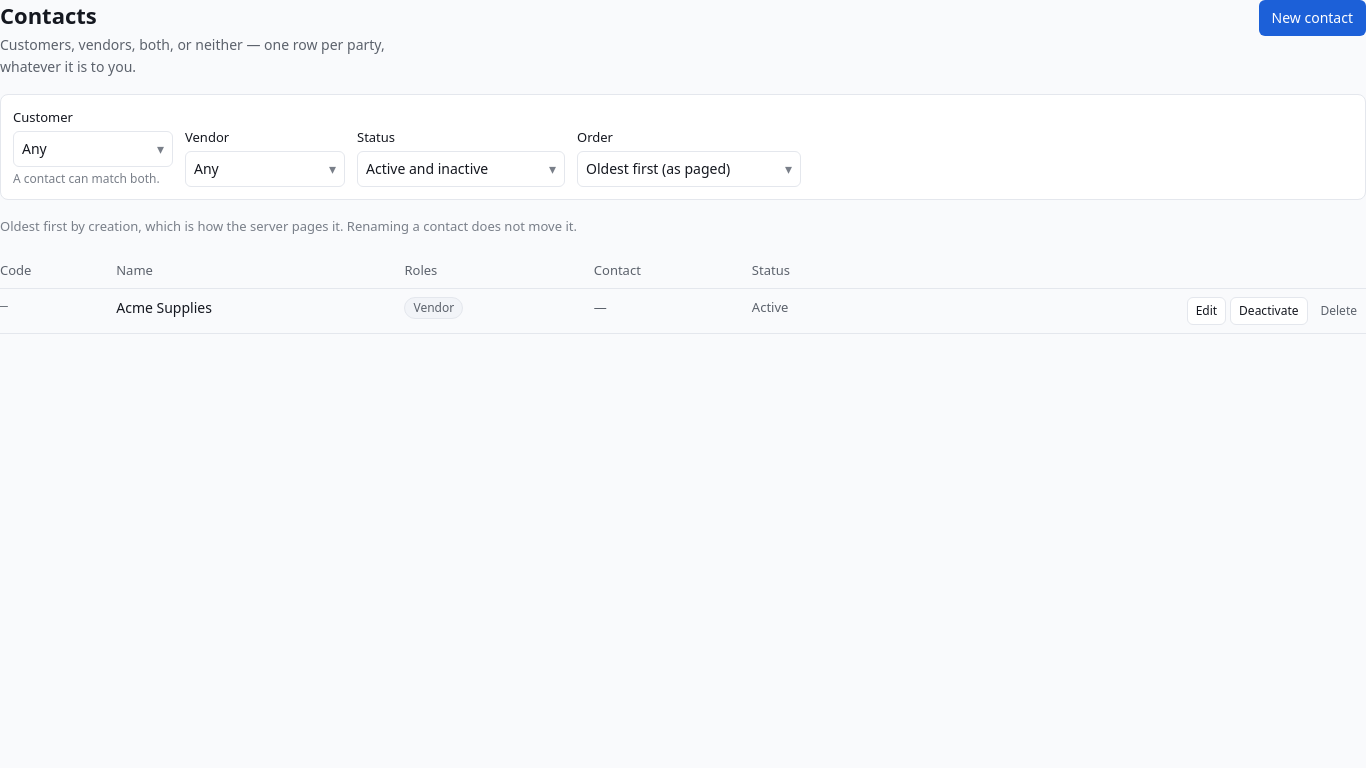
Test: ContactsScreen › deletion › falls back to the shared error surface for a refusal it does not know
Click the button with aria-label "Delete Acme Supplies" at (1339, 311), box x1=1312 y1=297 x2=1365 y2=325
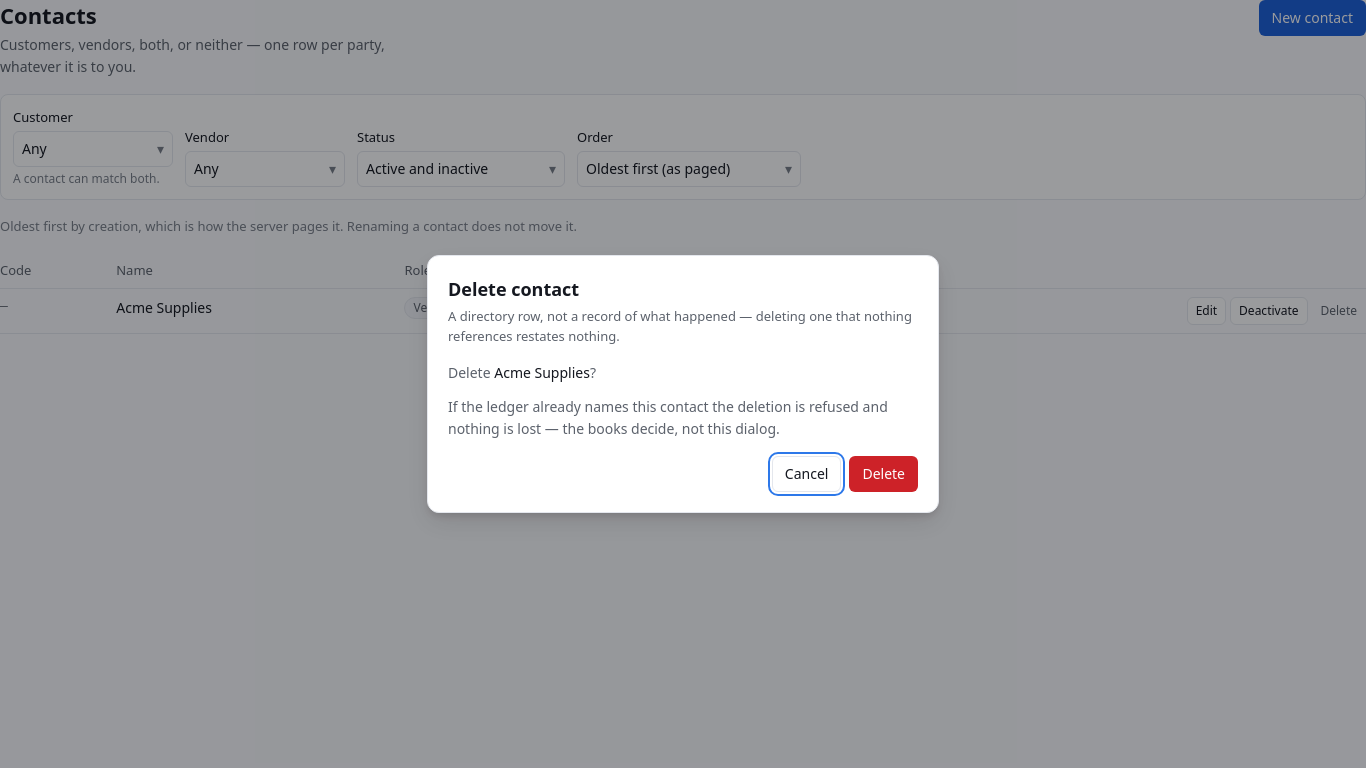
Click the button "Delete" at (884, 474), box x1=849 y1=456 x2=918 y2=492
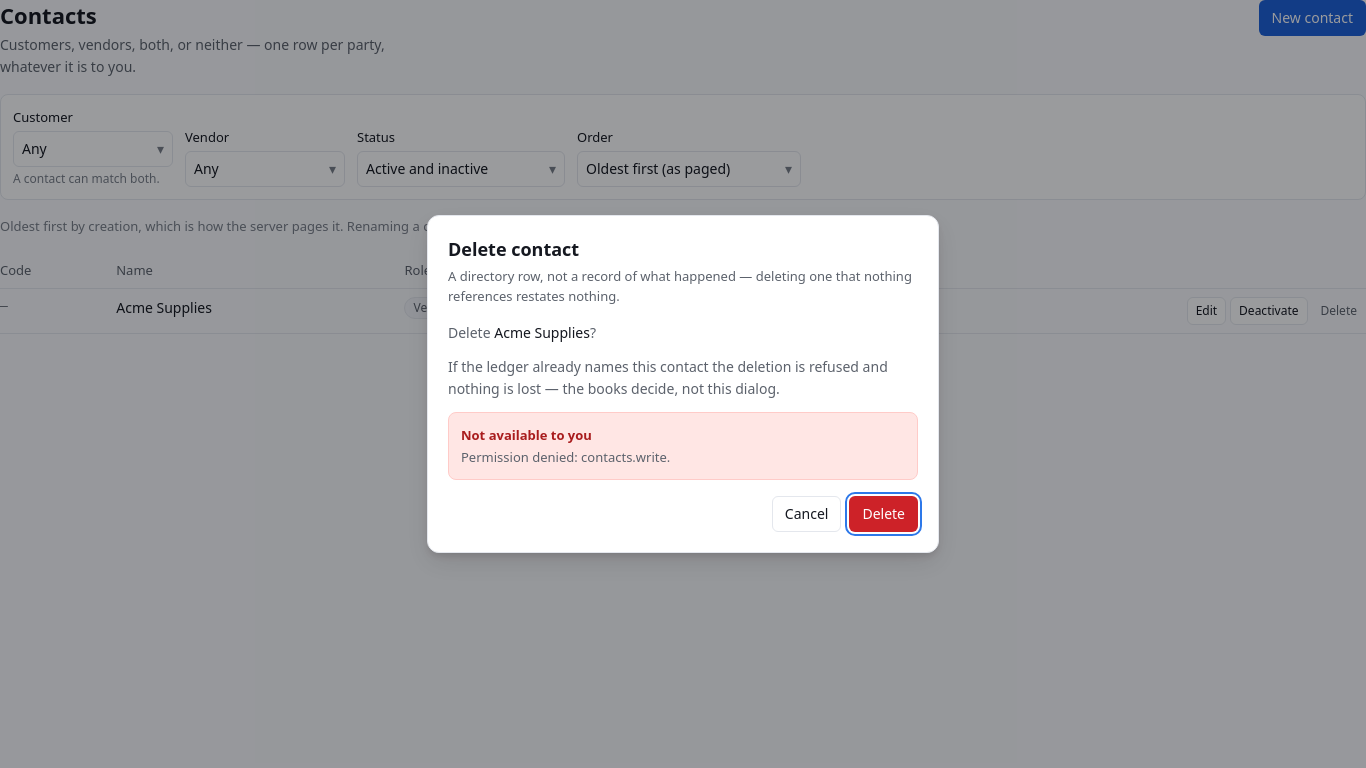
Check: the text "Not available to you" is shown, box x1=461 y1=426 x2=592 y2=444
